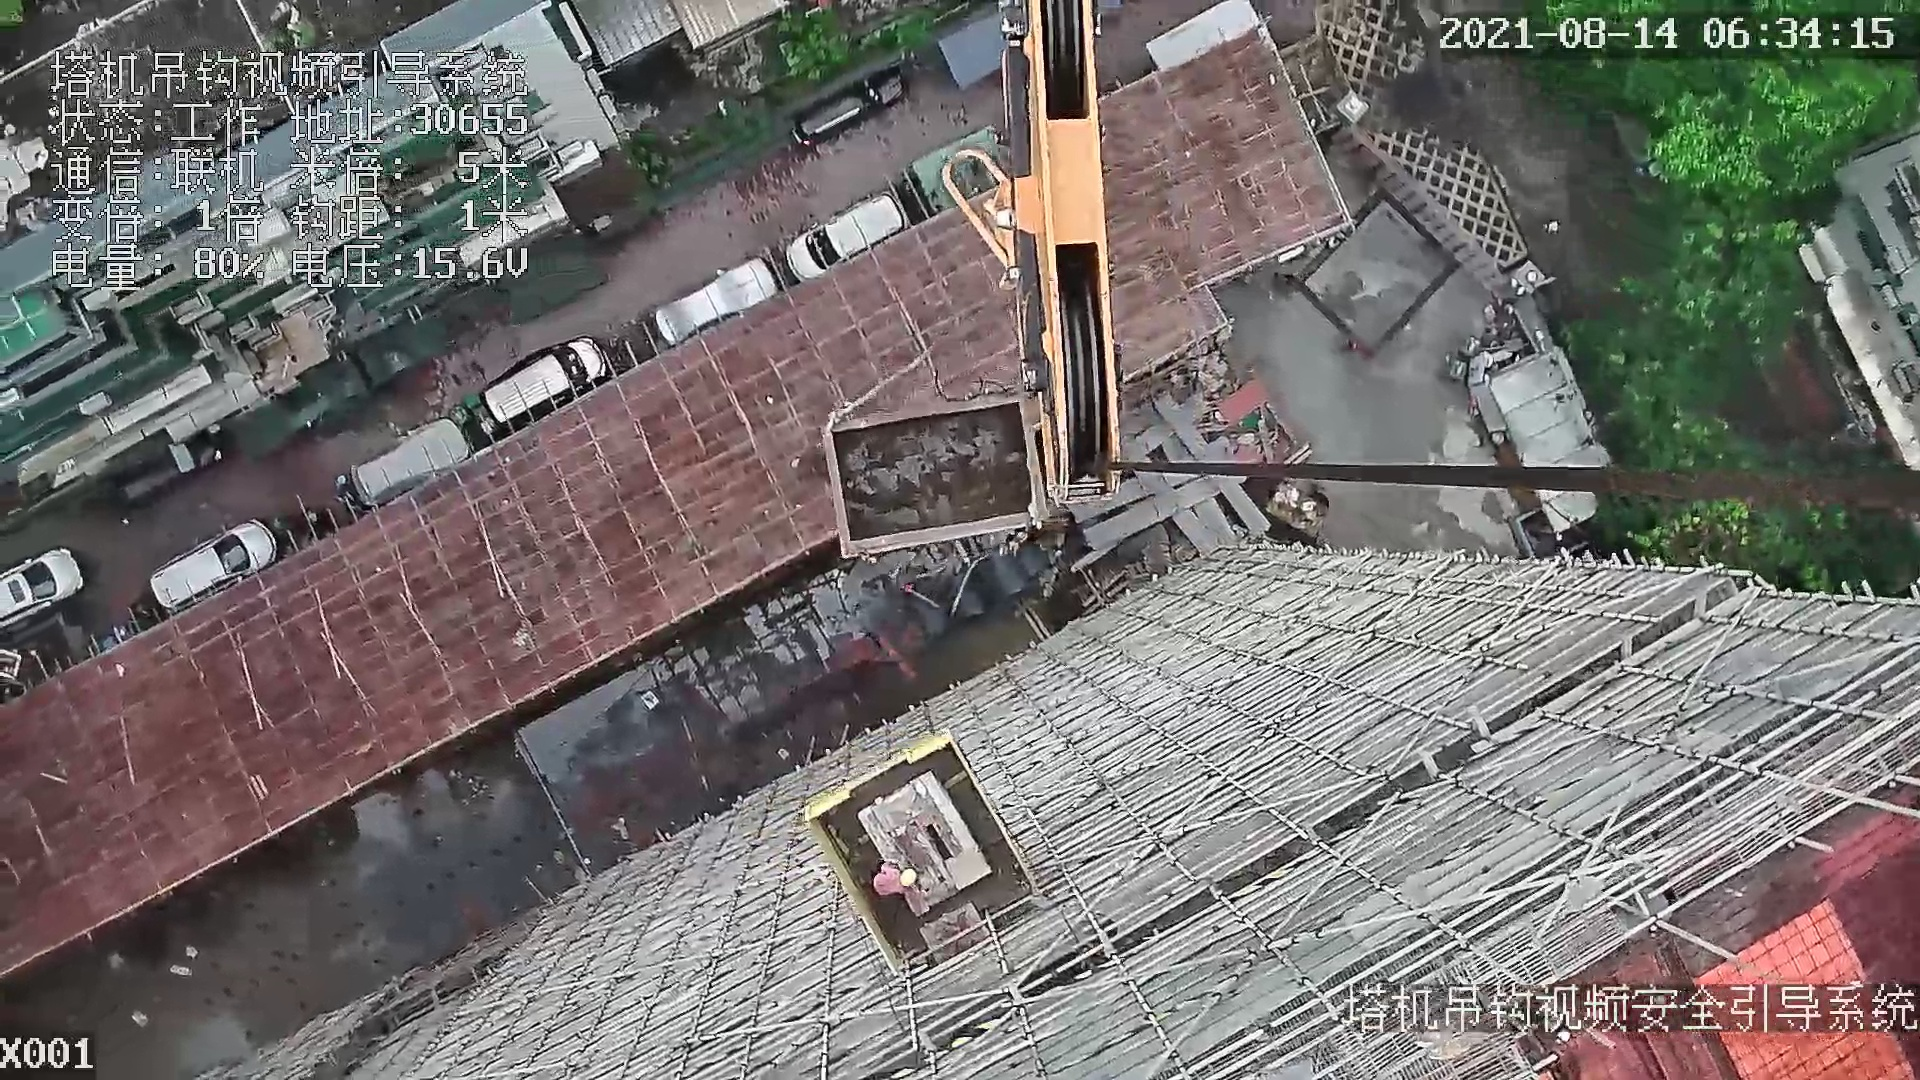helmet: (899, 868, 918, 888)
hook: (940, 1, 1120, 497)
hopper: (826, 399, 1051, 567)
person: (867, 859, 926, 913)
